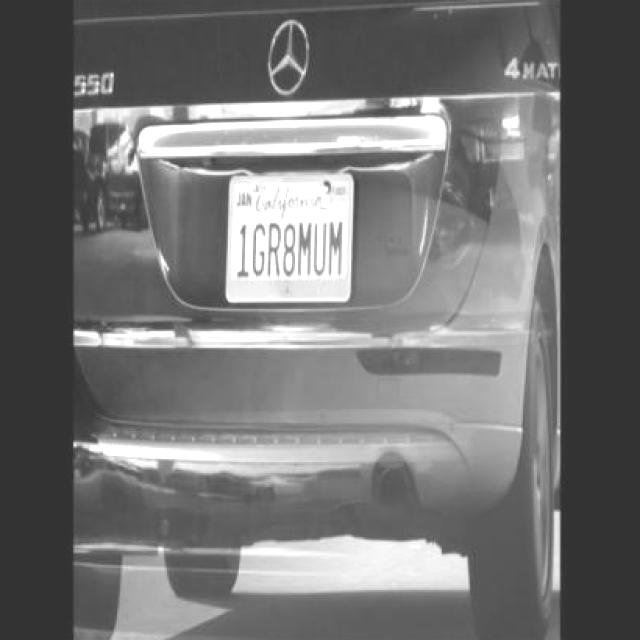licenseplate: (219, 152, 355, 324)
